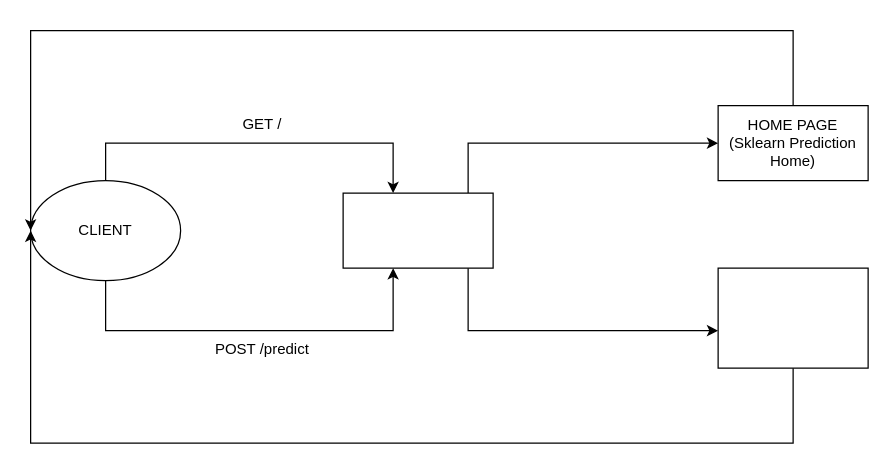
The diagram is 890 pixels wide and 475 high, and some of its shapes have lost their labels. The centre of each missing label's shape, as x and y in pixels:
SERVER: pixel 417 230
{ "prediction": [ ... ] }: pixel 792 317
